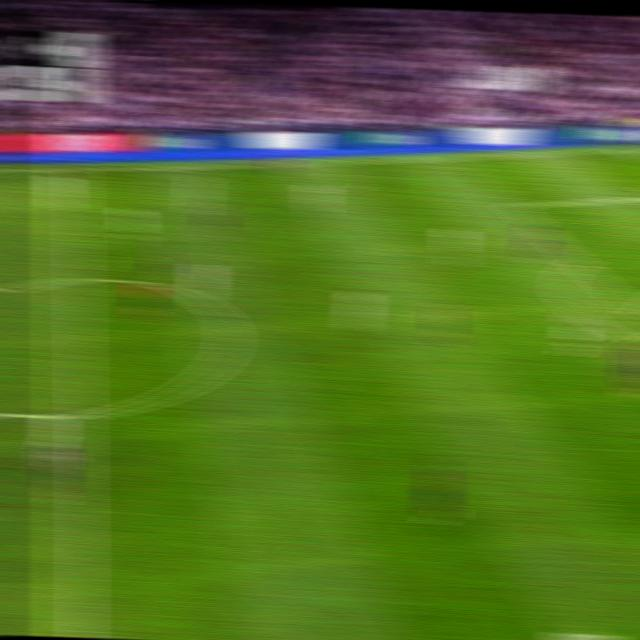bigarea_top_inner: (502, 197, 524, 213)
corner: (610, 142, 633, 153)
halfcircle_bottom: (66, 398, 95, 429)
halfcircle_top: (64, 265, 92, 292)
midline_top_intersection: (66, 162, 87, 175)
top_arc_area_intersection: (567, 253, 589, 269)
